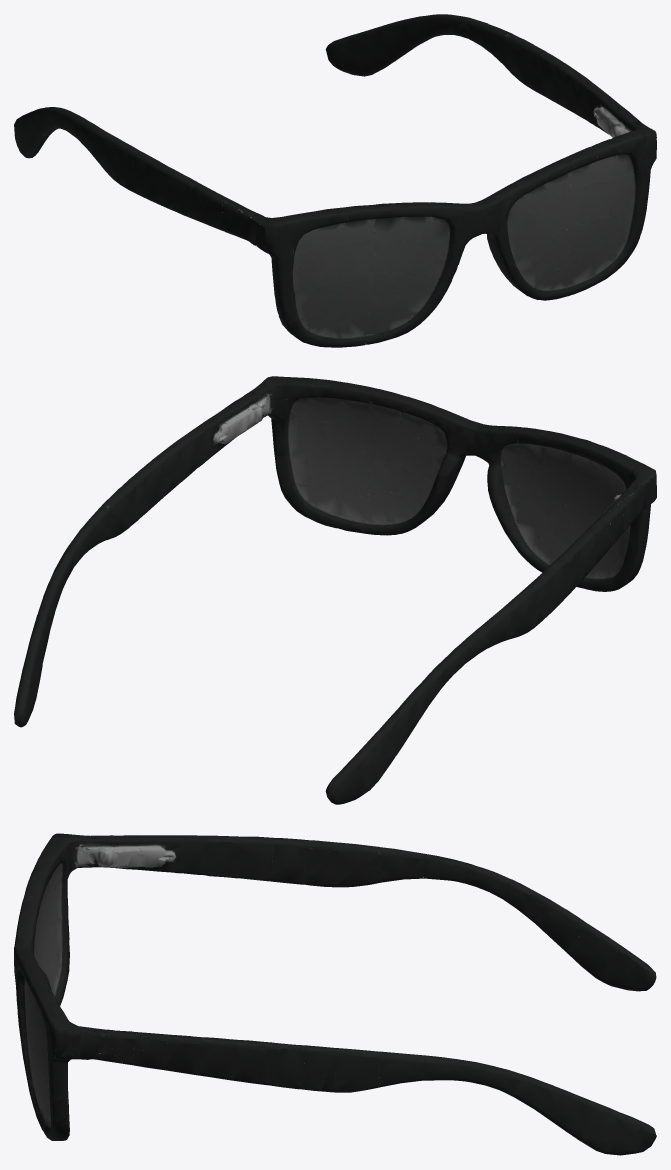
Rendered from shades.glb.
3 views of the same model, one above another, from view 1: azimuth 30°, elevation 25°; view 2: azimuth 150°, elevation 25°; view 3: azimuth 270°, elevation 25° (orthographic). The views are drawn at different scales.
Visible parts, largest first — view 1: shades; view 2: shades; view 3: shades.
Boxes of the visible parts, box(x1,y1,x2,y2) form: shades: box(14, 14, 656, 347); shades: box(14, 376, 656, 804); shades: box(14, 833, 656, 1155).
Bounding box in the file's own units: 1.48 × 0.4734 × 1.9.
Materials: 1 (1 with a texture image).
